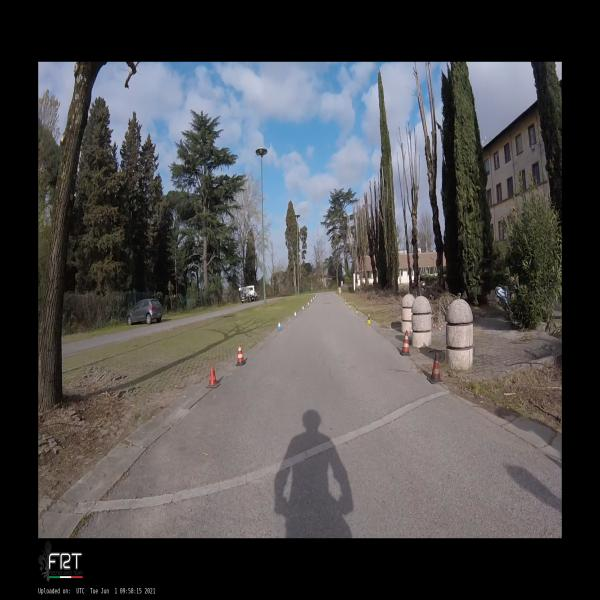blue_cone: (277, 321, 283, 331), (294, 311, 297, 318), (302, 305, 304, 311), (307, 301, 309, 307), (310, 298, 312, 303)
large_orange_cone: (400, 330, 410, 356), (236, 342, 246, 366)
unknown_cone: (427, 352, 444, 384), (206, 366, 220, 388)
yellow_cone: (366, 314, 372, 324), (355, 305, 359, 314), (348, 301, 351, 308), (345, 299, 346, 304), (342, 296, 343, 300)
